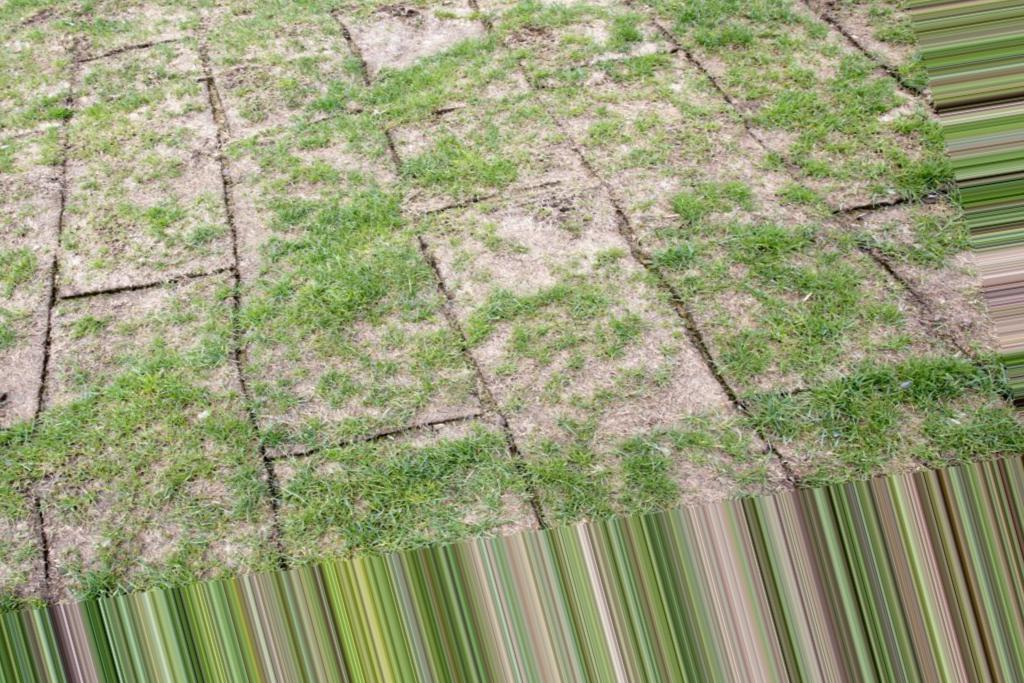patch: (113, 83, 904, 428)
